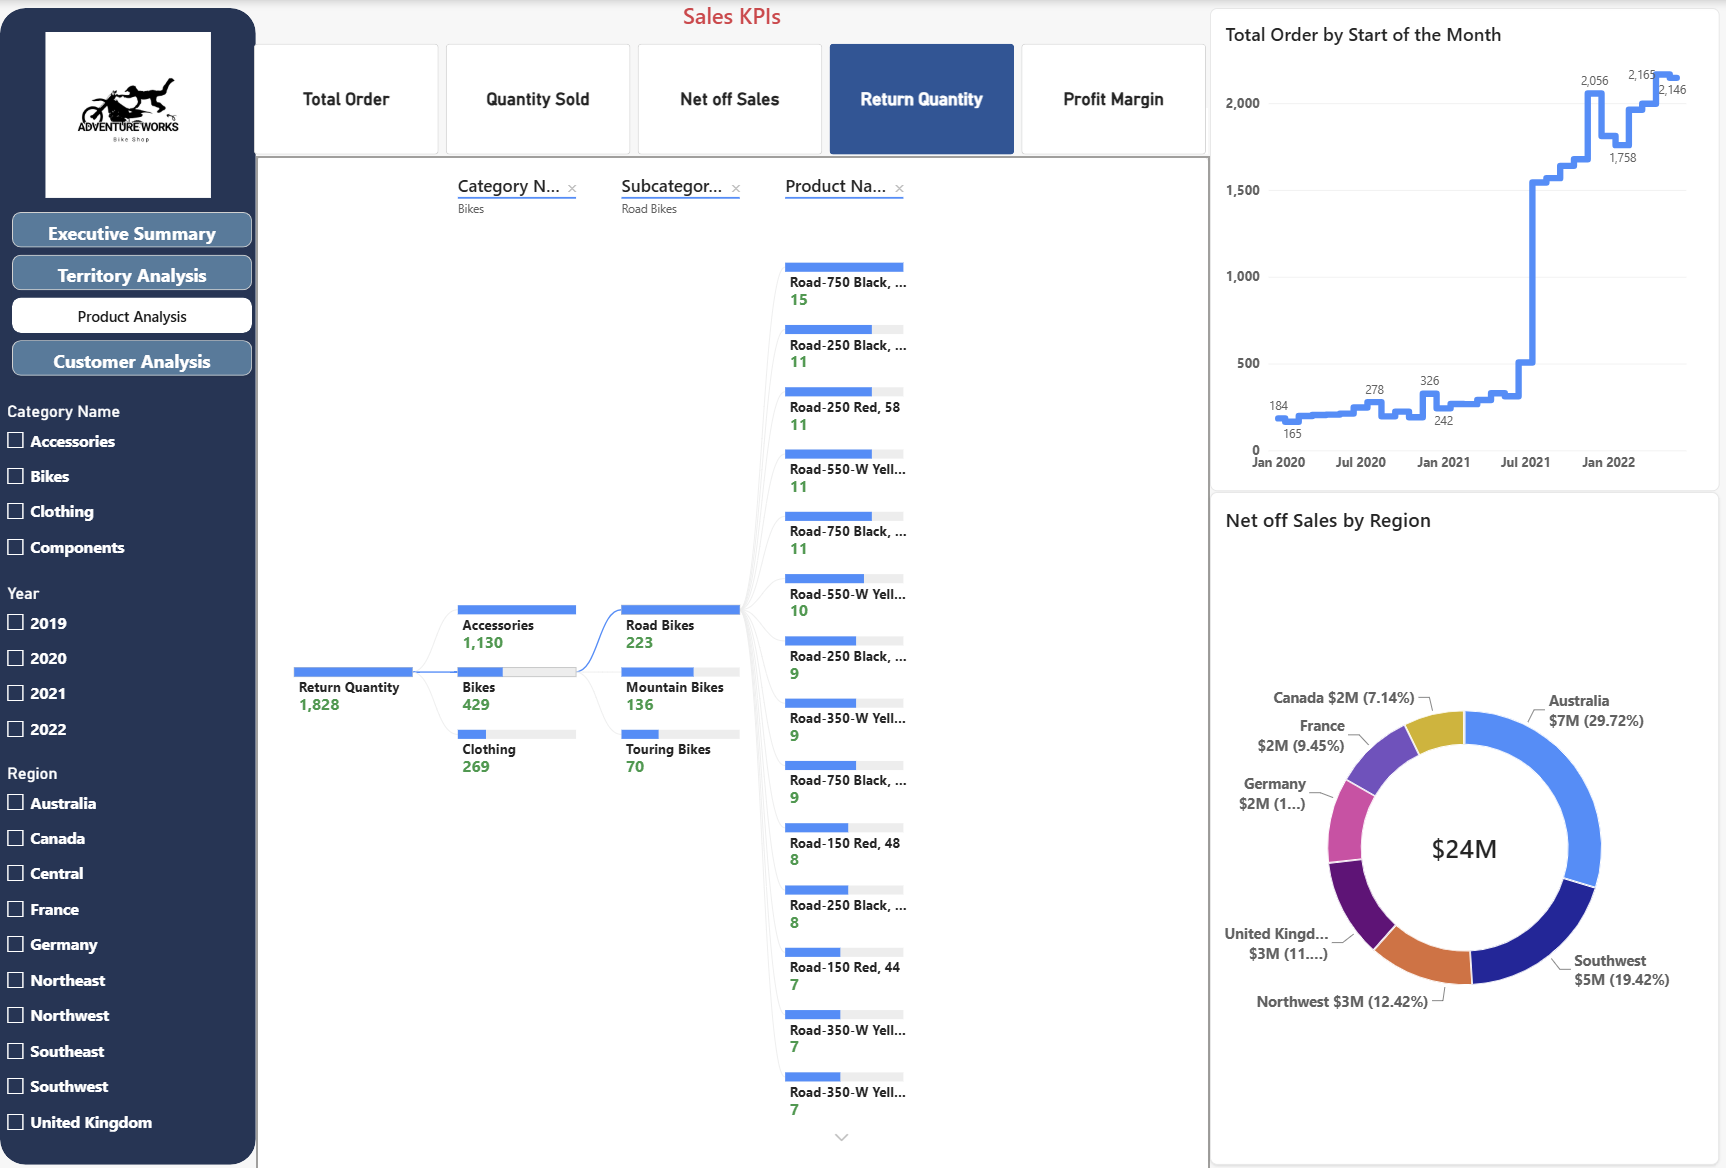

What the dashboard file says about the page in this screenshot:
{"tool":"powerbi","page":{"name":"Product Analysis ","canvas":[1900,1300],"ordinal":2},"visuals":[{"type":"shape","box":[0,9.6,281.4,1272.3],"z":0},{"type":"image","box":[0,36,281.9,182.3],"z":1000},{"type":"slicer","fields":{"Values":["DimDate.Year"]},"box":[0,642.2,251.1,195.8],"z":2000},{"type":"slicer","fields":{"Values":["DimTerritory.Region"]},"box":[0,839.4,250.8,444.3],"z":3000},{"type":"slicer","fields":{"Values":["DimProduct Categories.Category Name"]},"box":[0,442.5,251.1,195.8],"z":4000},{"type":"decompositionTreeVisual","fields":{"Analyze":["_Measures.Return Quantity"],"ExplainBy":["DimProduct Categories.Category Name","DimSubcategories.Subcategory Name","DimProduct.Product Name"]},"box":[281.4,170.8,1048.6,1123.2],"z":6000},{"type":"lineChart","title":"Total Order by Start of the Month","fields":{"Category":["DimDate.Start of the Month"],"Y":["_Measures.Total Order"]},"box":[1330,9.6,560.4,531.5],"z":7000},{"type":"advancedSlicerVisual","fields":{"Values":["Sales KPIs.Sales KPIs"]},"box":[279,0,1051,170.8],"z":8000},{"type":"donutChart","title":"Net off Sales by Region","fields":{"Category":["DimTerritory.Region"],"Y":["_Measures.Net off Sales"]},"box":[1330,542,560,740],"z":9000},{"type":"pageNavigator","box":[14,234,264.6,180.4],"z":9001}]}

Visuals, with their boxes on the page's 1900x1300 design canvas (x1, y1, x2, y2). These are canvas units, not pixel positions in the 1726x1168 screenshot, which may show the page scaled, cropped or inside an application window:
shape: detection(0, 10, 281, 1282)
image: detection(0, 36, 282, 218)
slicer - DimDate.Year: detection(0, 642, 251, 838)
slicer - DimTerritory.Region: detection(0, 839, 251, 1284)
slicer - DimProduct Categories.Category Name: detection(0, 442, 251, 638)
decompositionTreeVisual - _Measures.Return Quantity x DimProduct Categories.Category Name: detection(281, 171, 1330, 1294)
"Total Order by Start of the Month" lineChart: detection(1330, 10, 1890, 541)
advancedSlicerVisual - Sales KPIs.Sales KPIs: detection(279, 0, 1330, 171)
"Net off Sales by Region" donutChart: detection(1330, 542, 1890, 1282)
pageNavigator: detection(14, 234, 279, 414)
